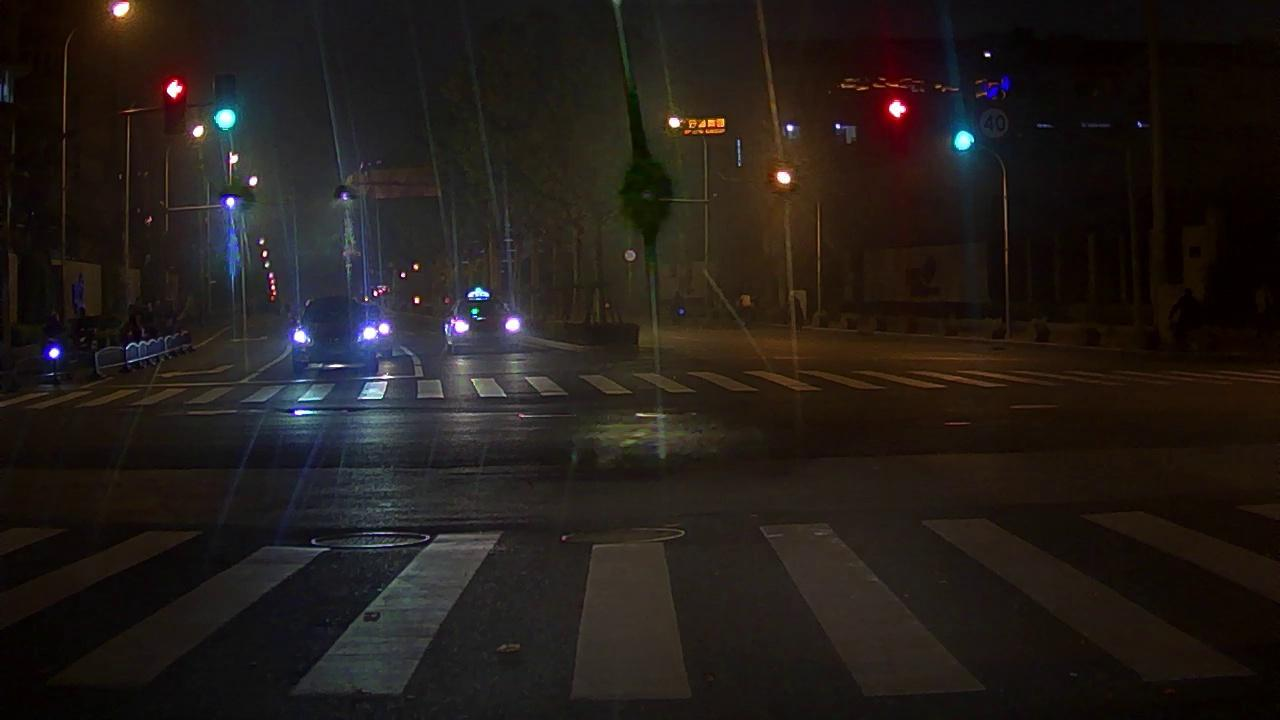traffic_light: (214, 75, 237, 131), (887, 99, 906, 150), (164, 79, 183, 128), (952, 129, 972, 153)
